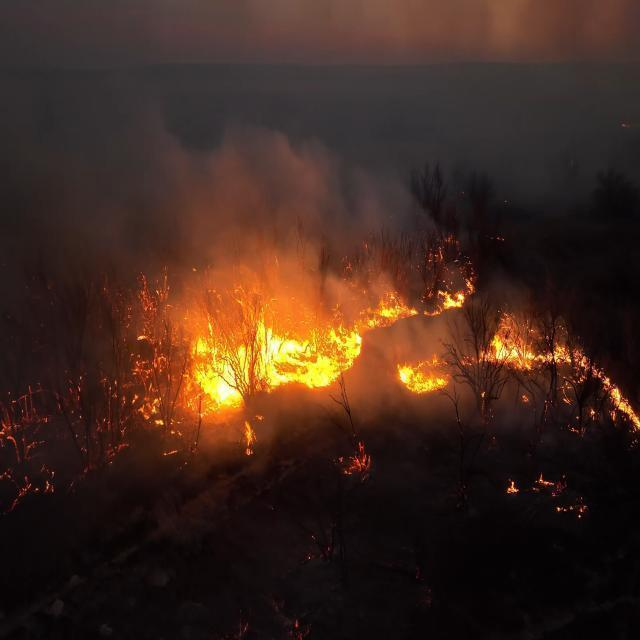Fire: (257, 320, 341, 393), (202, 340, 247, 408), (395, 349, 444, 400)
Smoke: (211, 128, 316, 251)
